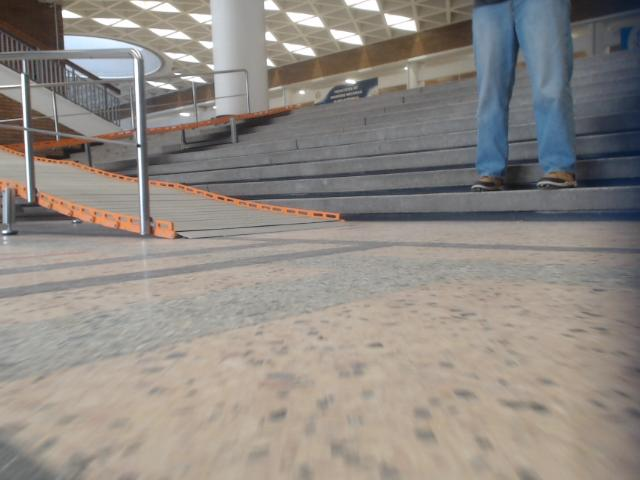rampUp: (150, 182, 341, 236), (35, 157, 138, 232), (0, 149, 25, 199)
ramps-railing: (0, 49, 149, 234), (18, 79, 35, 201), (60, 133, 126, 144), (0, 125, 53, 134)
